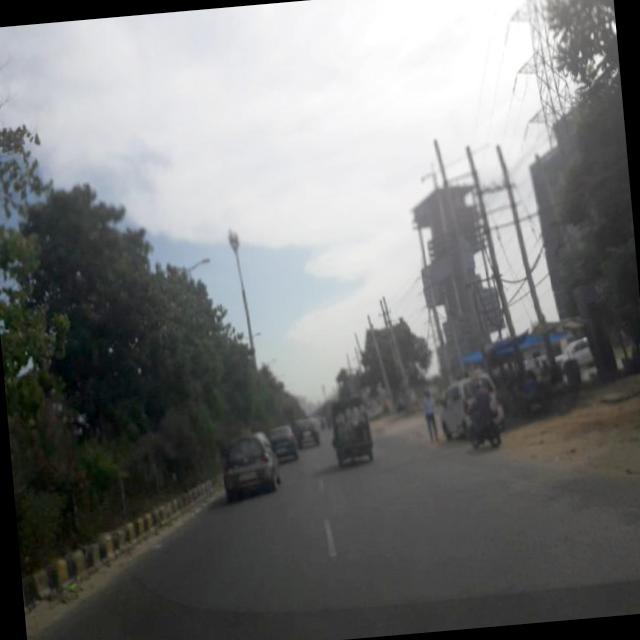crack: (168, 456, 592, 634)
